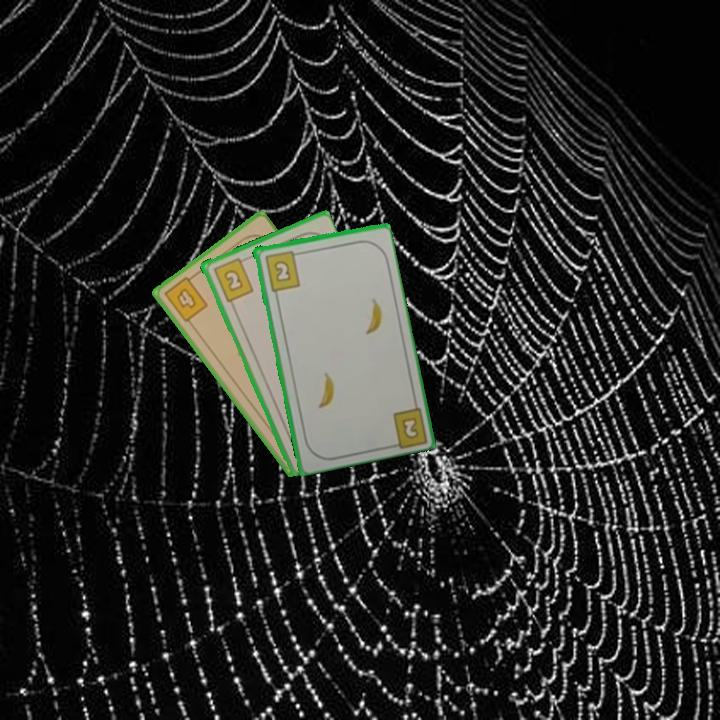2b: (209, 254, 256, 305), (261, 247, 303, 294), (398, 413, 421, 442)
4b: (160, 271, 211, 325)
